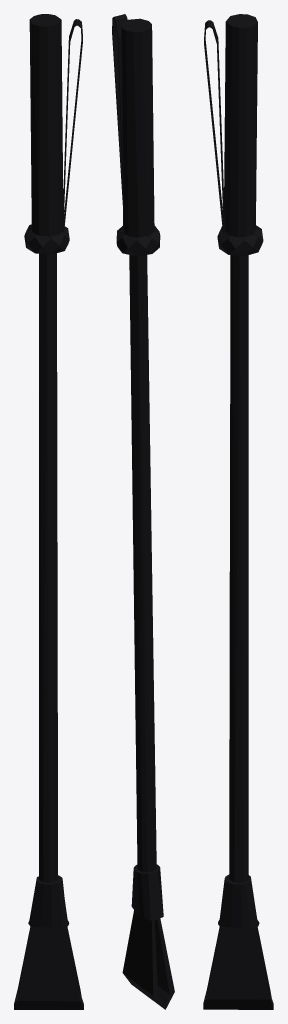
File: crop.obj
The picture shows the model from 3 angles, left to right: view 1: azimuth 90°, elevation 25°; view 2: azimuth 210°, elevation 25°; view 3: azimuth 270°, elevation 25°; orthographic projection.
Parts seen in each view (by area): view 1: AA_Cylinder.002; view 2: AA_Cylinder.002; view 3: AA_Cylinder.002.
Part boxes in pixels (x1,y1,x2,y2): AA_Cylinder.002: (14, 14, 83, 1009); AA_Cylinder.002: (112, 14, 174, 1009); AA_Cylinder.002: (203, 14, 273, 1009).
Bounding box in the file's own units: 0.2833 × 6.32 × 0.4061.
Materials: 1 (1 with a texture image).
